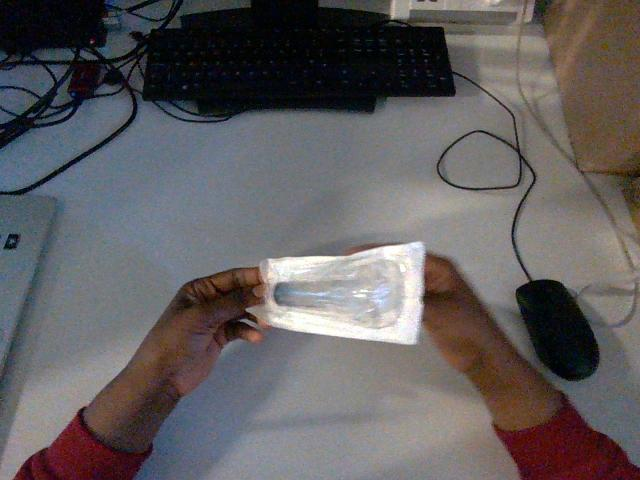syringe: (250, 242, 424, 343)
